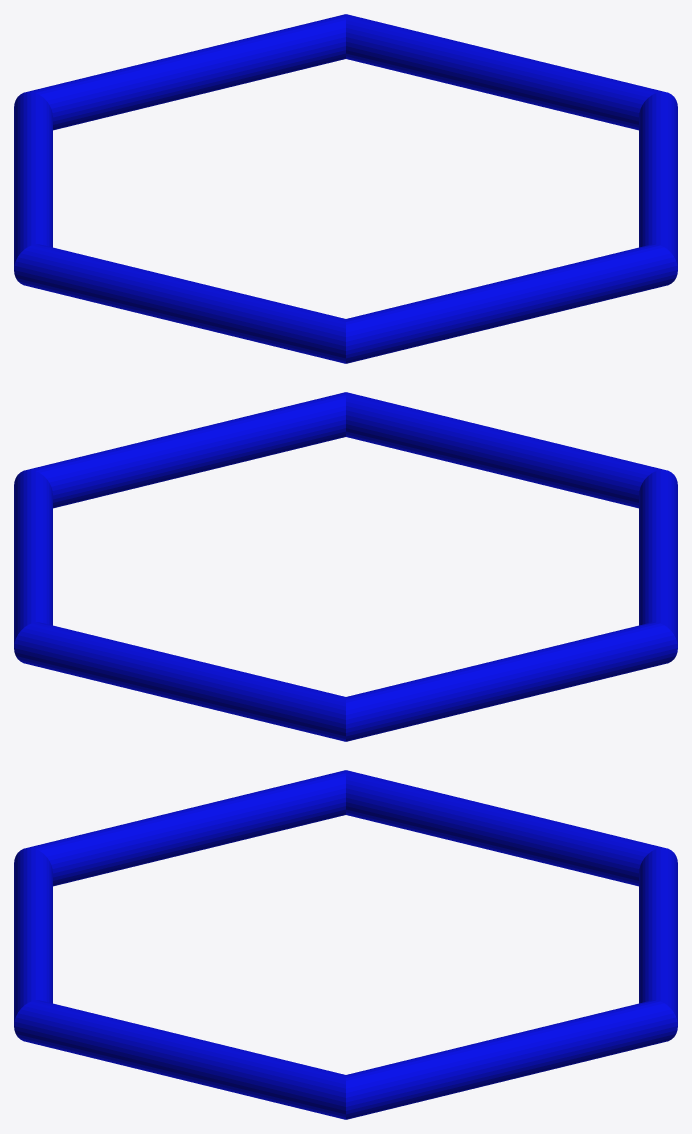
File: ring1.gltf
3 views of the same model, one above another, from view 1: azimuth 30°, elevation 25°; view 2: azimuth 150°, elevation 25°; view 3: azimuth 270°, elevation 25° (orthographic).
Visible parts, largest first — view 1: Torus.002; view 2: Torus.002; view 3: Torus.002.
Boxes of the visible parts, x1,y1,x2,y2 form: Torus.002: (14,14,677,363); Torus.002: (14,392,677,741); Torus.002: (14,770,677,1119).
Size of the model in its own units: 17 by 0.9945 by 14.72.
